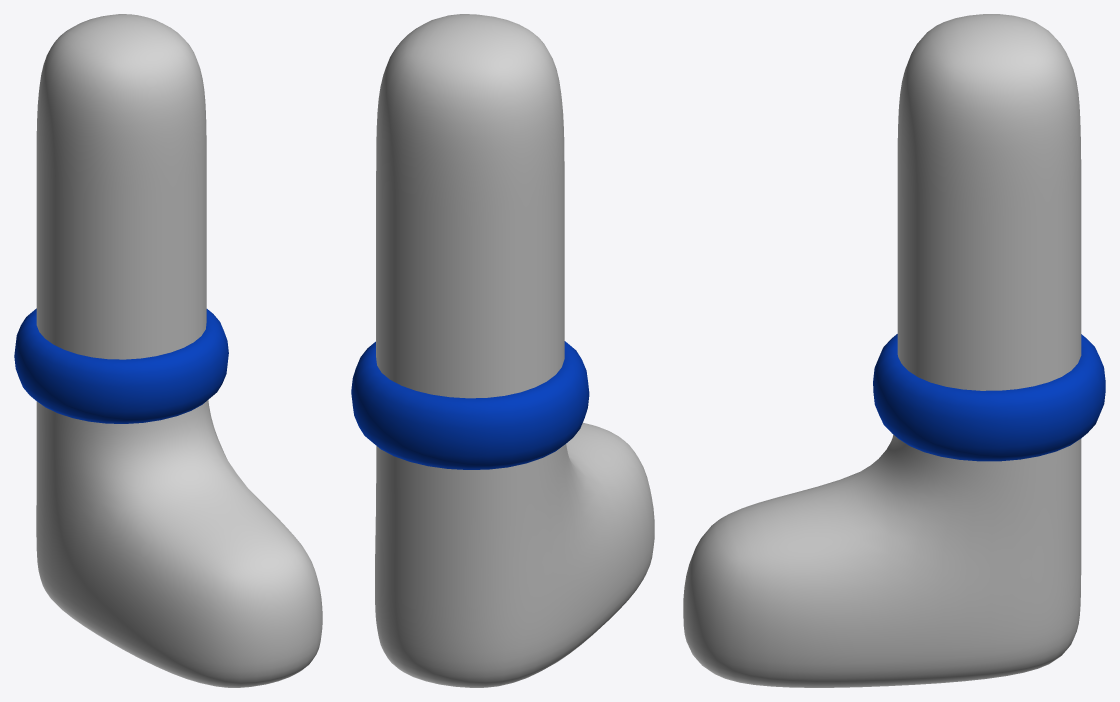
Rendered from leg.obj.
3 renders of one model, left to right at view 1: azimuth 30°, elevation 25°; view 2: azimuth 150°, elevation 25°; view 3: azimuth 270°, elevation 25°, orthographic. The views are drawn at different scales.
Visible parts, largest first — view 1: Cube.017; view 2: Cube.017; view 3: Cube.017.
Part boxes in pixels (x1,y1,x2,y2): Cube.017: (14,14,322,687); Cube.017: (351,14,654,687); Cube.017: (683,14,1105,687).
Size of the model in its own units: 0.1623 by 0.4718 by 0.2869.
